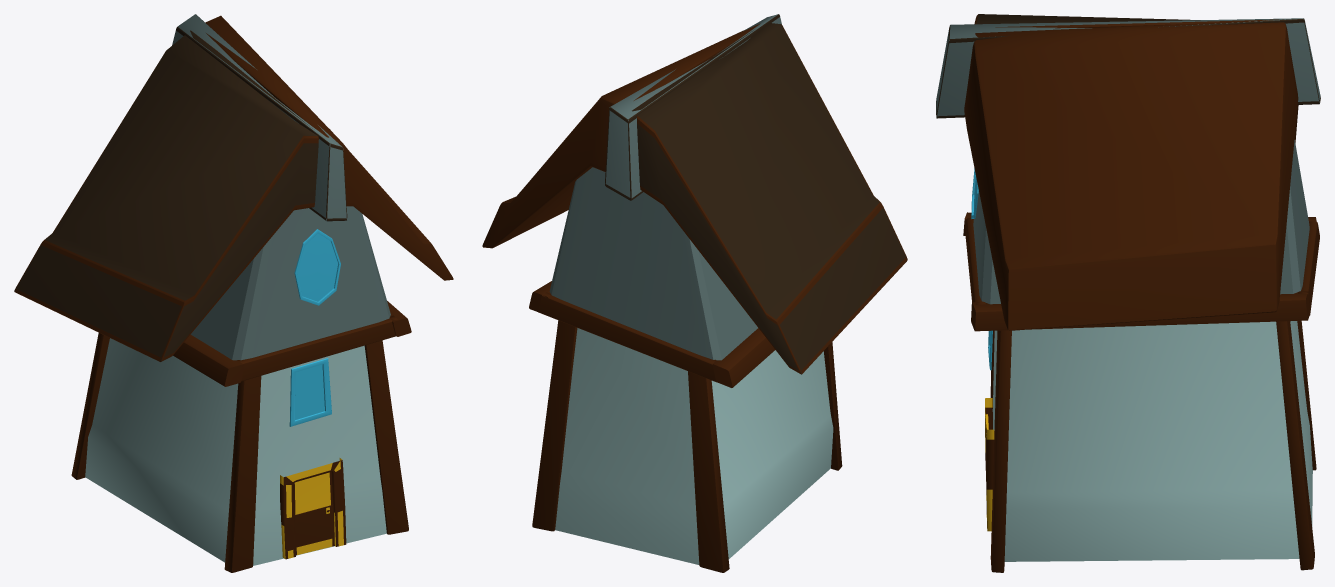
File: house_2.fbx
3 renders of one model, left to right at view 1: azimuth 30°, elevation 25°; view 2: azimuth 150°, elevation 25°; view 3: azimuth 270°, elevation 25°, orthographic. The views are drawn at different scales.
Visible parts, largest first — view 1: house_2; view 2: house_2; view 3: house_2.
Part boxes in pixels (bbox=[...]): house_2: bbox=[14, 14, 453, 572]; house_2: bbox=[482, 14, 907, 572]; house_2: bbox=[936, 14, 1320, 572].
Size of the model in its own units: 121 by 155 by 106.
